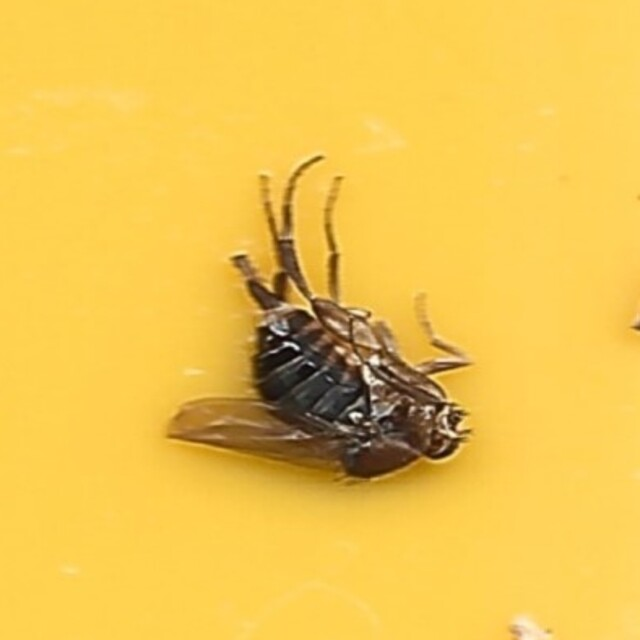Brachycera: (162, 153, 478, 487)
